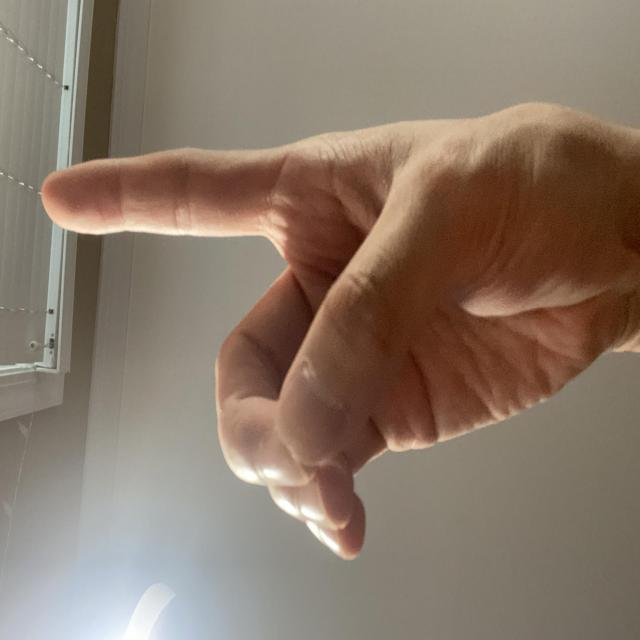D: (56, 49, 413, 640)
